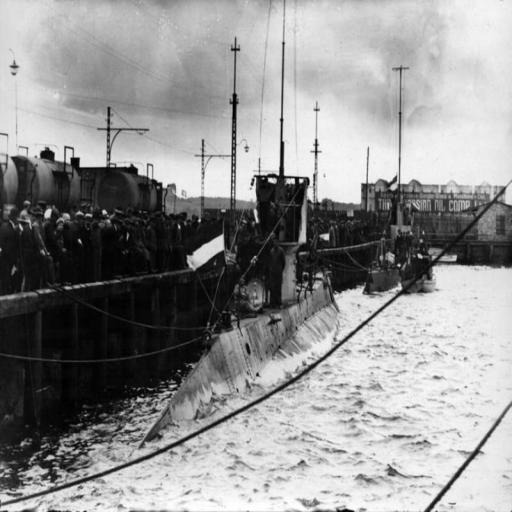submarine: (136, 175, 340, 452)
